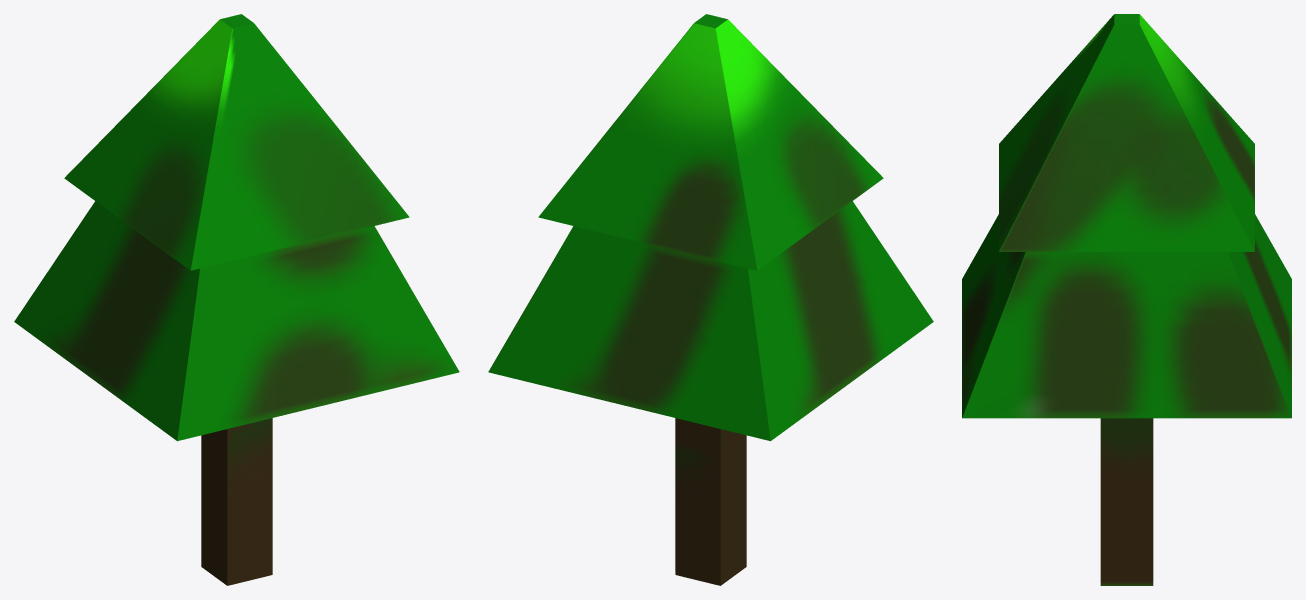
The model's file is tree.fbx.
3 views of the same model, side by side, from view 1: azimuth 30°, elevation 25°; view 2: azimuth 150°, elevation 25°; view 3: azimuth 270°, elevation 25° (orthographic).
Visible parts, largest first — view 1: Cube; view 2: Cube; view 3: Cube.
Boxes of the visible parts, box(x1,y1,x2,y2) form: Cube: box(14, 14, 459, 585); Cube: box(488, 14, 933, 585); Cube: box(962, 14, 1291, 585).
Bounding box in the file's own units: 108 × 200 × 108.
